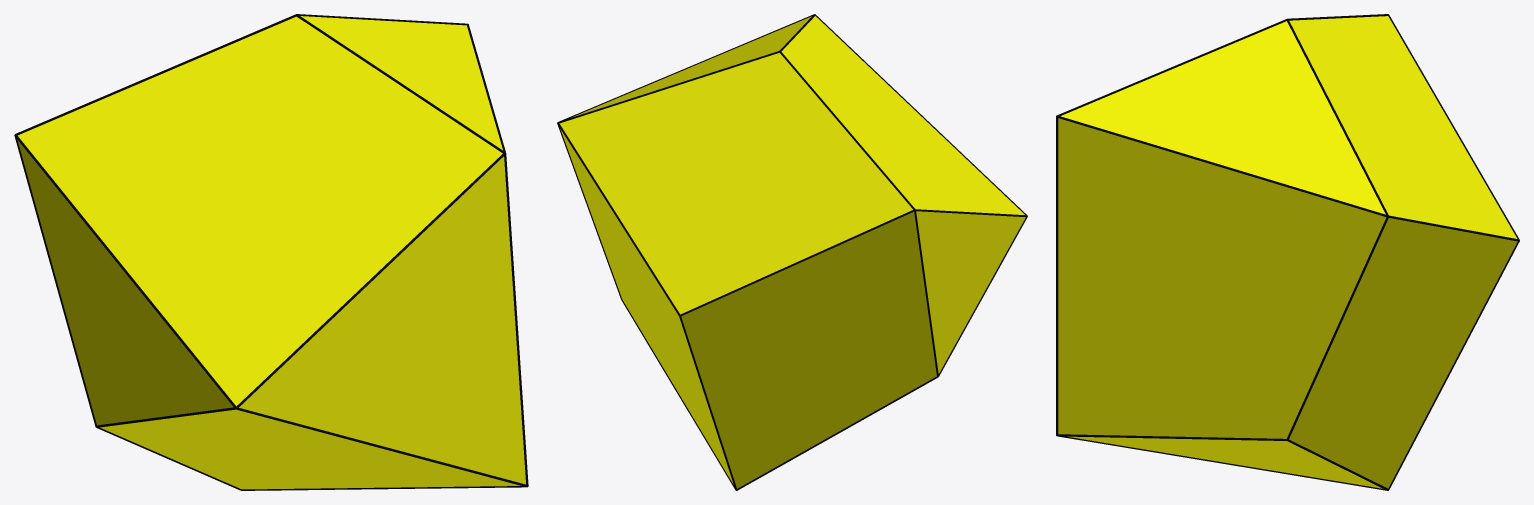
Rendered from quiz_114.dae.
3 views of the same model, side by side, from view 1: azimuth 30°, elevation 25°; view 2: azimuth 150°, elevation 25°; view 3: azimuth 270°, elevation 25° (orthographic). The views are drawn at different scales.
Parts seen in each view (by area): view 1: visgeom_0, geometry_edges0_0_quiz_109.off; view 2: visgeom_0, geometry_edges0_0_quiz_109.off; view 3: visgeom_0, geometry_edges0_0_quiz_109.off.
Boxes of the visible parts, x1=… form: visgeom_0: x1=17, y1=16, x2=525, y2=489; geometry_edges0_0_quiz_109.off: x1=14, y1=14, x2=528, y2=490; visgeom_0: x1=559, y1=16, x2=1025, y2=488; geometry_edges0_0_quiz_109.off: x1=557, y1=14, x2=1027, y2=490; visgeom_0: x1=1058, y1=16, x2=1517, y2=488; geometry_edges0_0_quiz_109.off: x1=1056, y1=14, x2=1519, y2=490.
Size of the model in its own units: 2.08 by 2.02 by 2.27.
